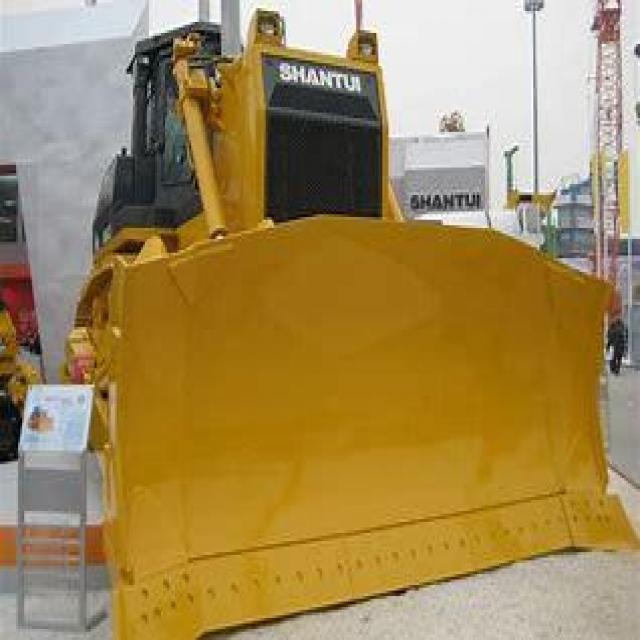Bulldozer: (50, 16, 638, 626)
